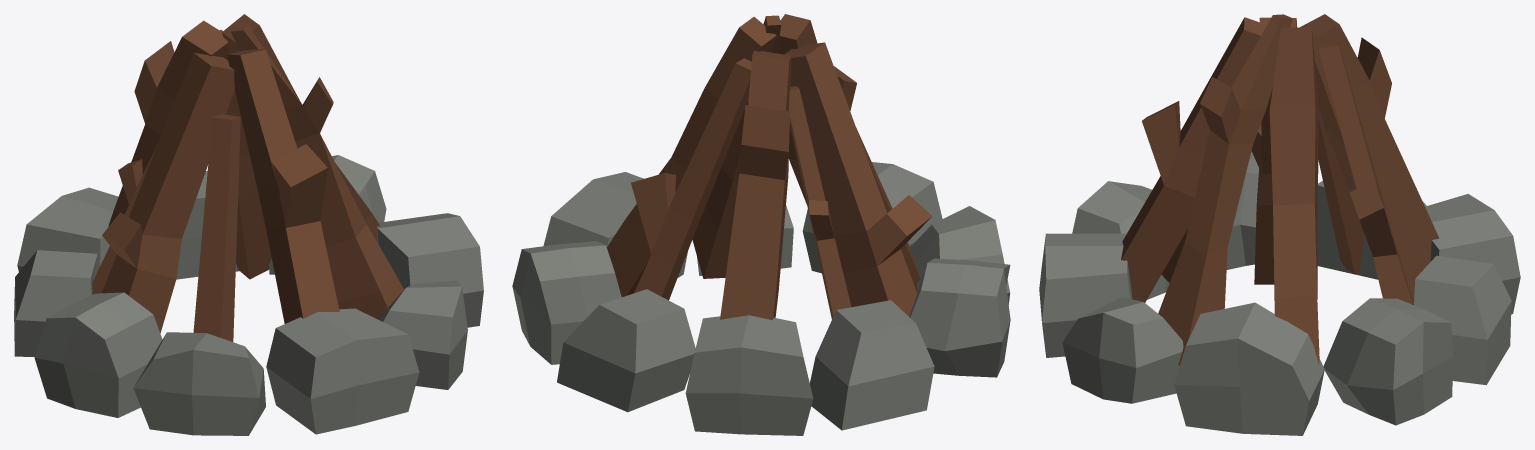
File: campfire.glb
3 views of the same model, side by side, from view 1: azimuth 30°, elevation 25°; view 2: azimuth 150°, elevation 25°; view 3: azimuth 270°, elevation 25° (orthographic).
Parts seen in each view (by area): view 1: Cube.015; view 2: Cube.015; view 3: Cube.015.
Boxes of the visible parts, left/top/right/bottom form: Cube.015: left=14, top=14, right=483, bottom=435; Cube.015: left=512, top=14, right=1010, bottom=435; Cube.015: left=1039, top=14, right=1520, bottom=435.
Bounding box in the file's own units: 0.8018 × 0.568 × 0.7672.
